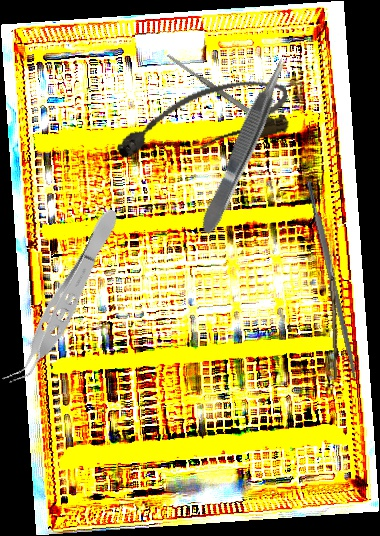Cannula: (108, 69, 296, 171)
Scalpel Handle: (305, 179, 360, 380)
Spatula Surgical: (165, 51, 275, 132)
Surgical Spoon: (326, 240, 341, 380)
Tissue Forceps: (1, 202, 128, 395), (193, 54, 295, 237)
